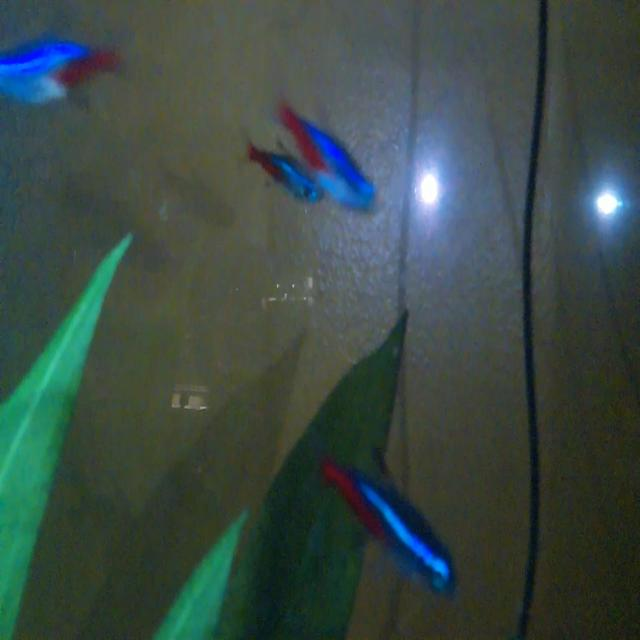fish: (312, 427, 466, 611), (264, 74, 383, 222)
